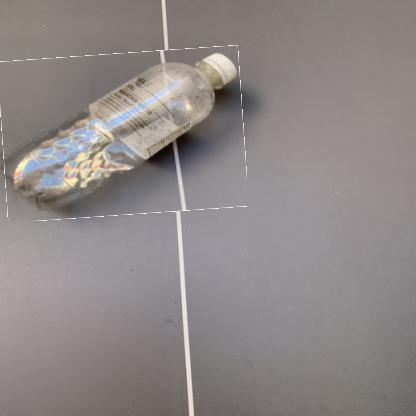plastic-bottles: (1, 49, 247, 220)
